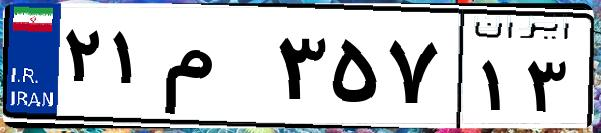1: (475, 38, 525, 113), (110, 28, 158, 98)
2: (57, 26, 110, 100)
3: (270, 28, 330, 110), (525, 38, 570, 115)
5: (330, 28, 385, 110)
7: (385, 28, 445, 110)
م: (158, 20, 270, 120)
